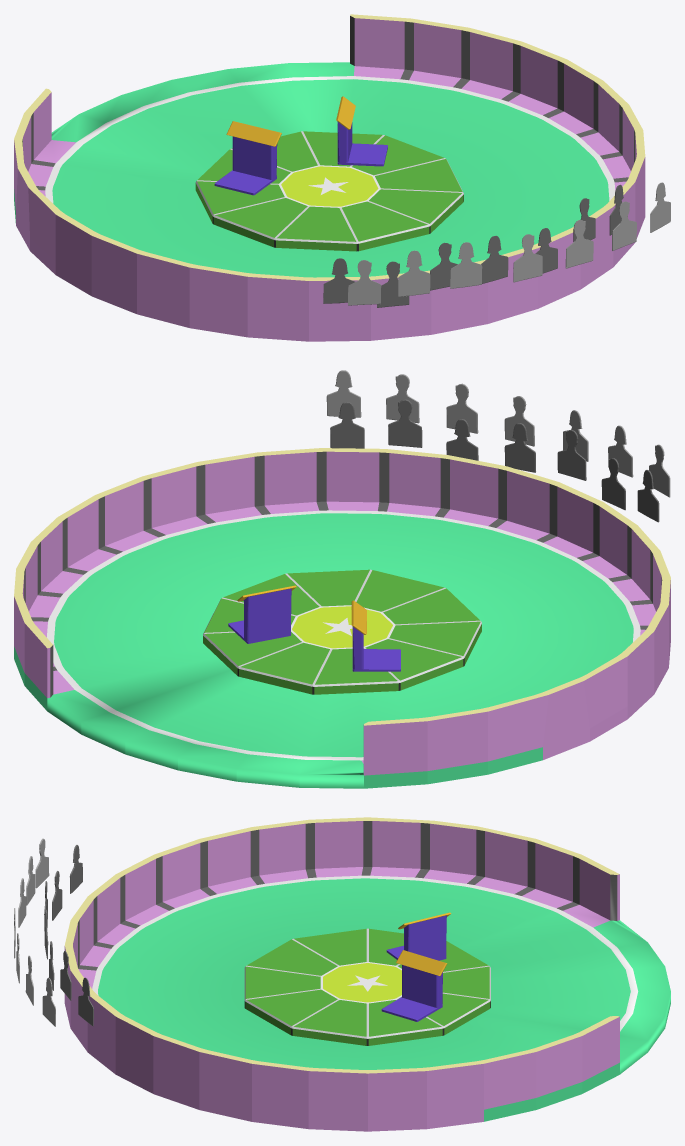
The model's file is Competition Platform with Watchers2.fbx.
The picture shows the model from 3 angles, top to bottom: view 1: azimuth 30°, elevation 25°; view 2: azimuth 150°, elevation 25°; view 3: azimuth 270°, elevation 25°; orthographic projection. The views are drawn at different scales.
Visible parts, largest first — view 1: Competition Platform; view 2: Competition Platform; view 3: Competition Platform.
Boxes of the visible parts, left/top/right/bottom form: Competition Platform: left=14, top=14, right=670, bottom=341; Competition Platform: left=14, top=370, right=670, bottom=788; Competition Platform: left=14, top=817, right=670, bottom=1131.
Bounding box in the file's own units: 1400 × 265 × 1517.
